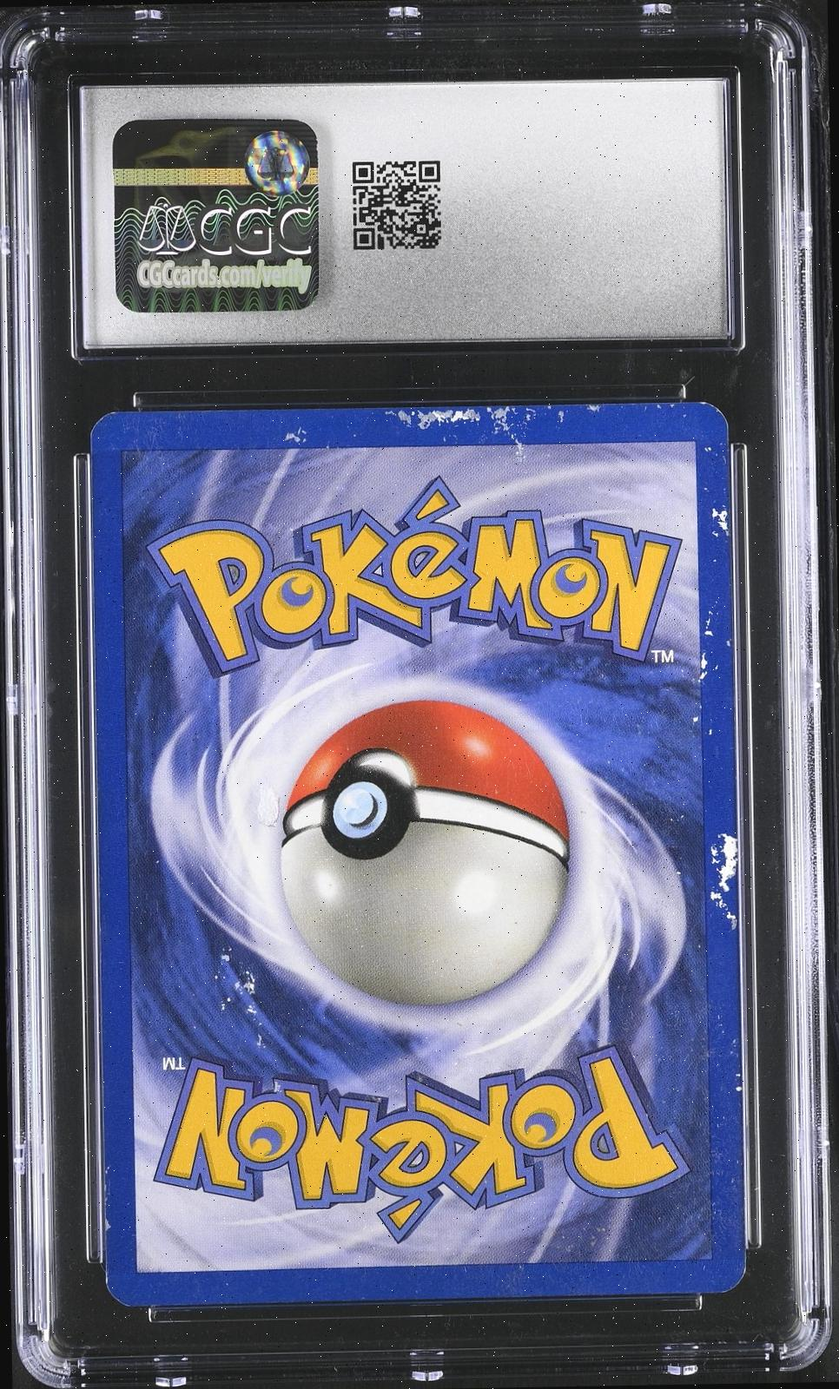card-2UtV: (90, 402, 746, 1307)
